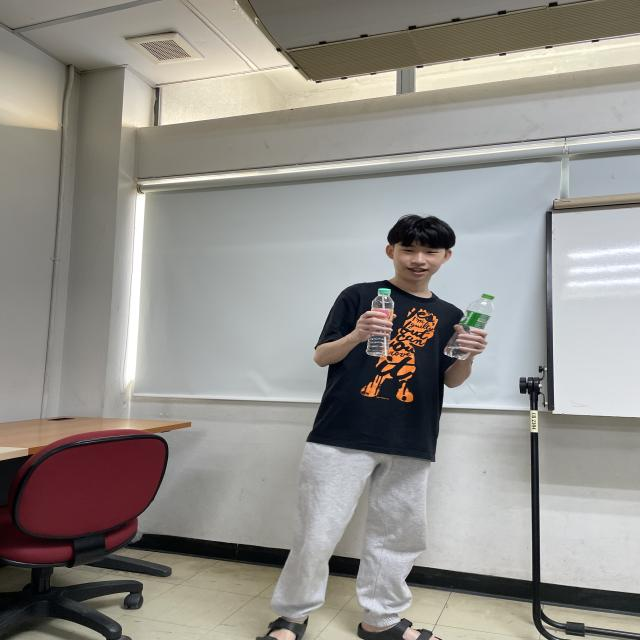bottle: (442, 292, 496, 361), (366, 288, 396, 358)
